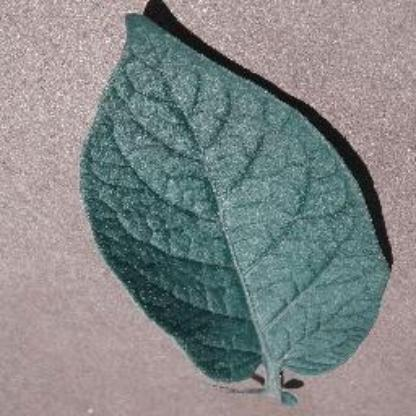Healthy-plant: (74, 6, 396, 408)
